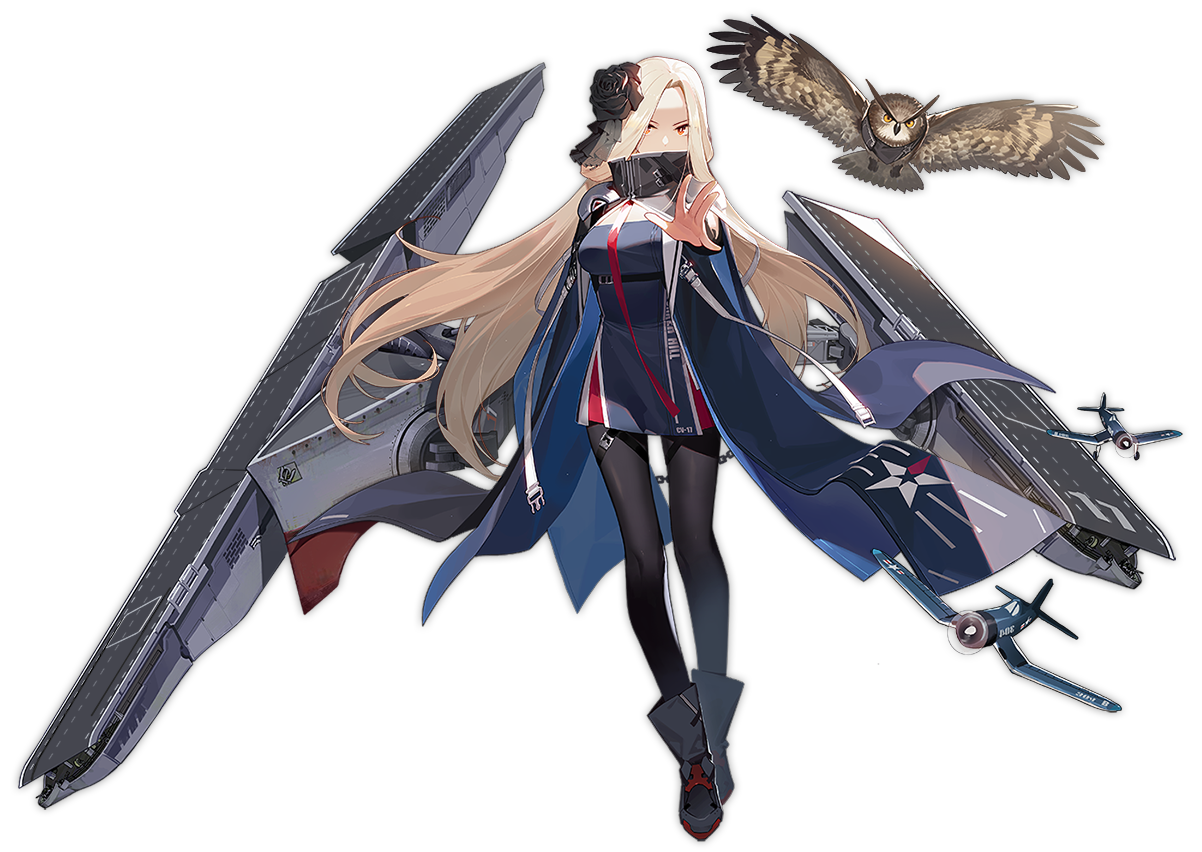person: (350, 52, 885, 623)
